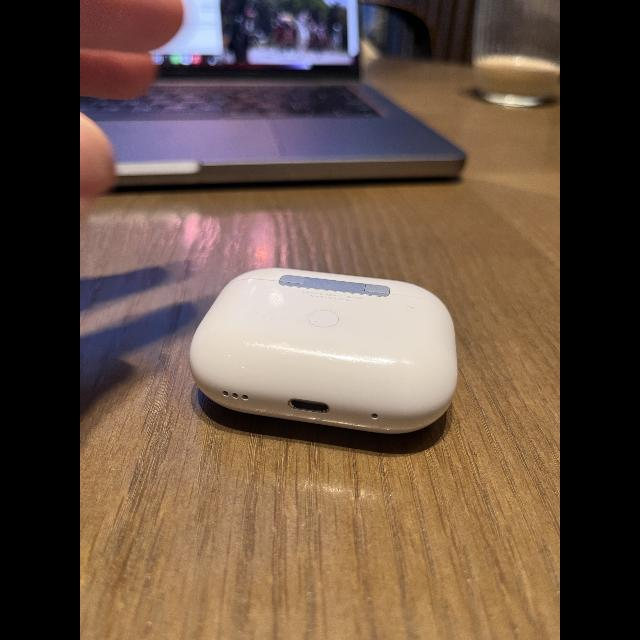AirPods Pro: (188, 266, 462, 454)
